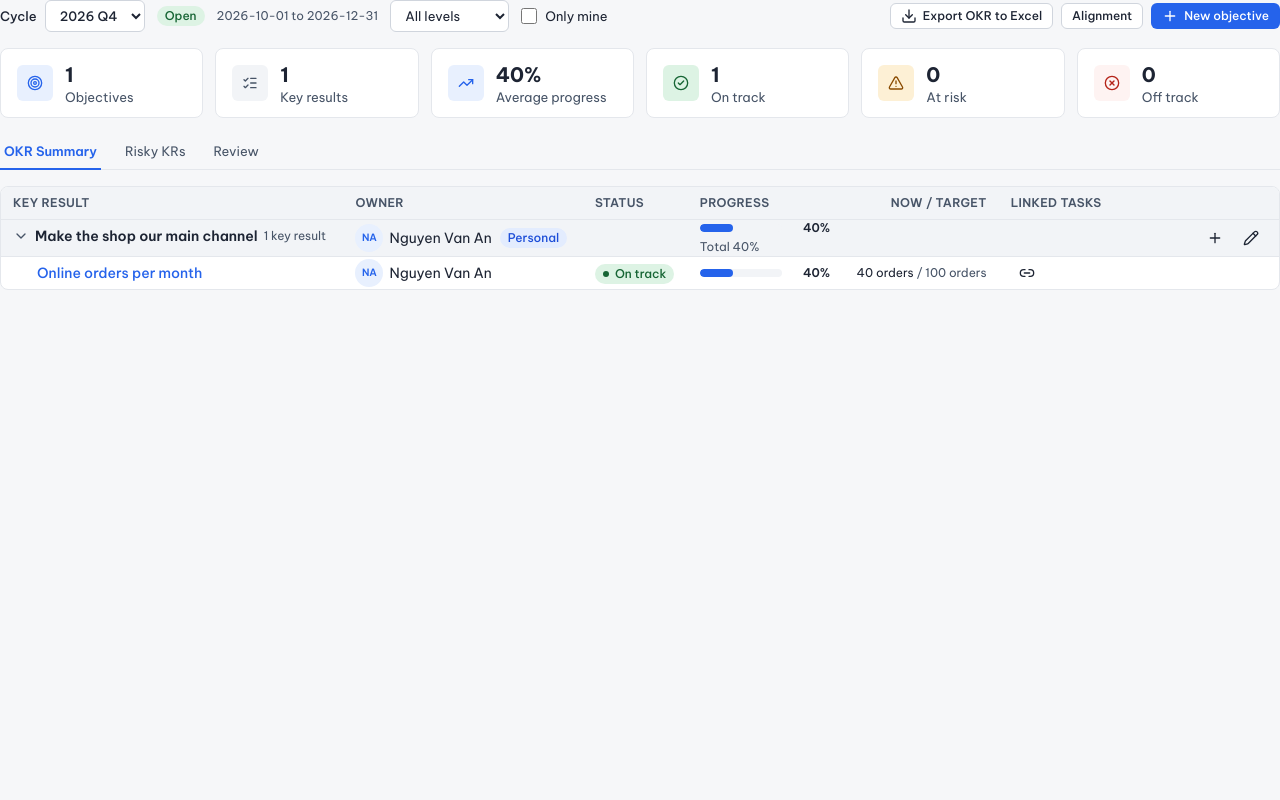
Test case: OkrScreen › shows the alignment tree and the review in their tabs
Expected: the button "Make the shop our main channel 1 key result" is shown, [13,226,326,246]
Click the button "Alignment": click(1102, 16) [1061,3,1143,29]
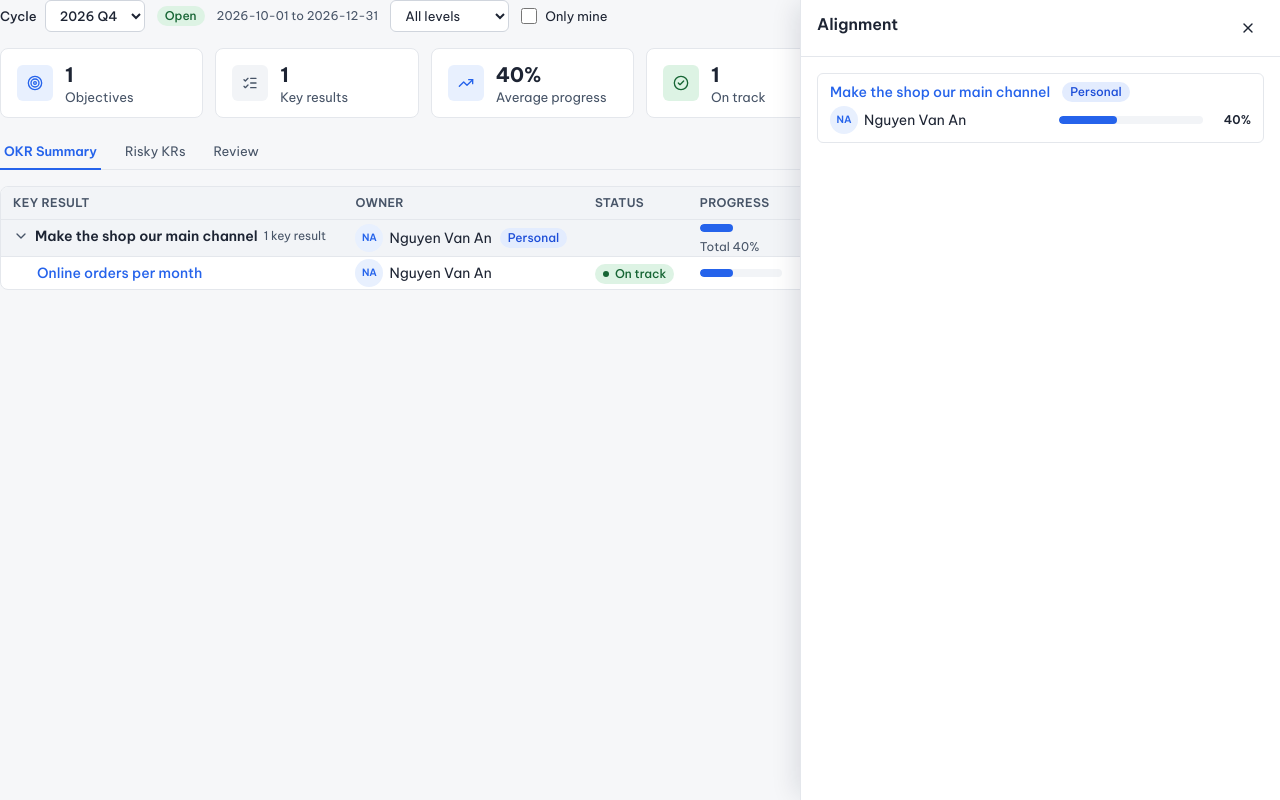
Result: the list named "Alignment" is shown at [817,73,1264,143]
Press Escape
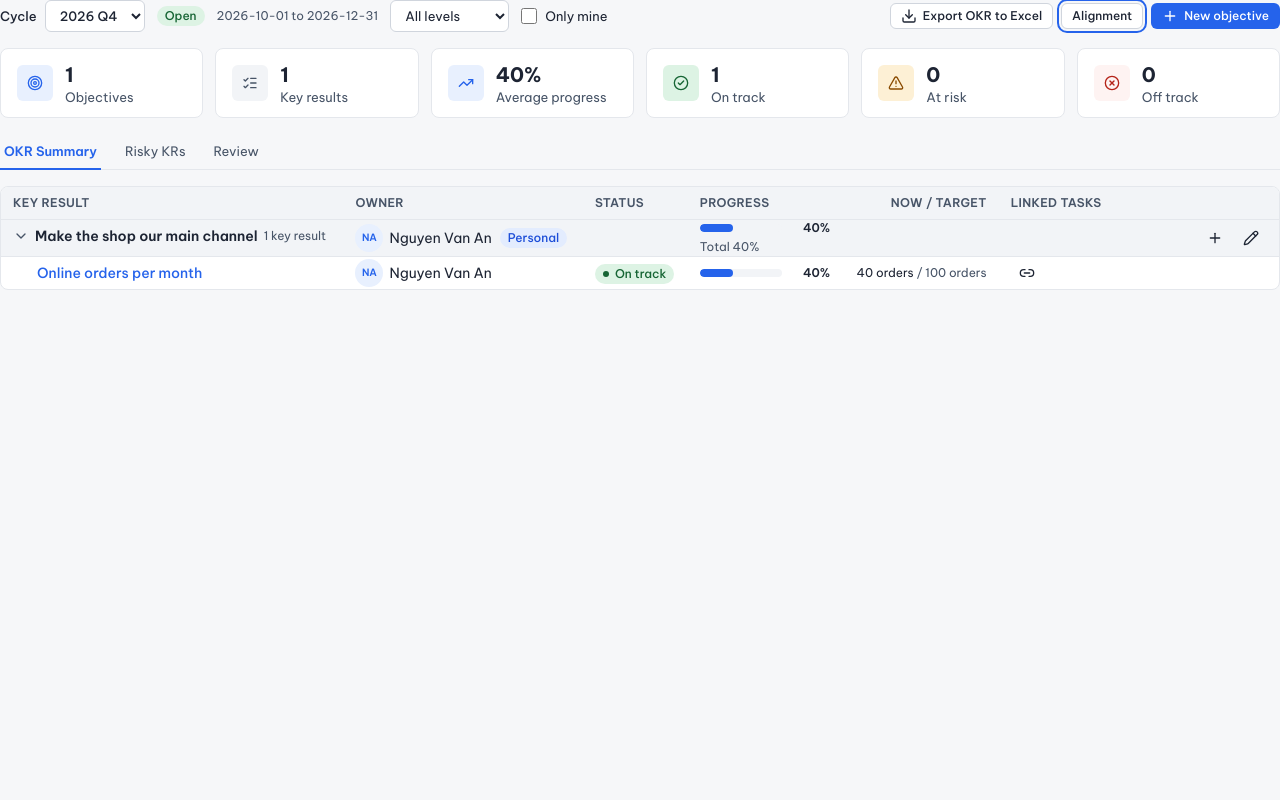
Click the tab "Review": click(236, 153) [210,135,263,170]
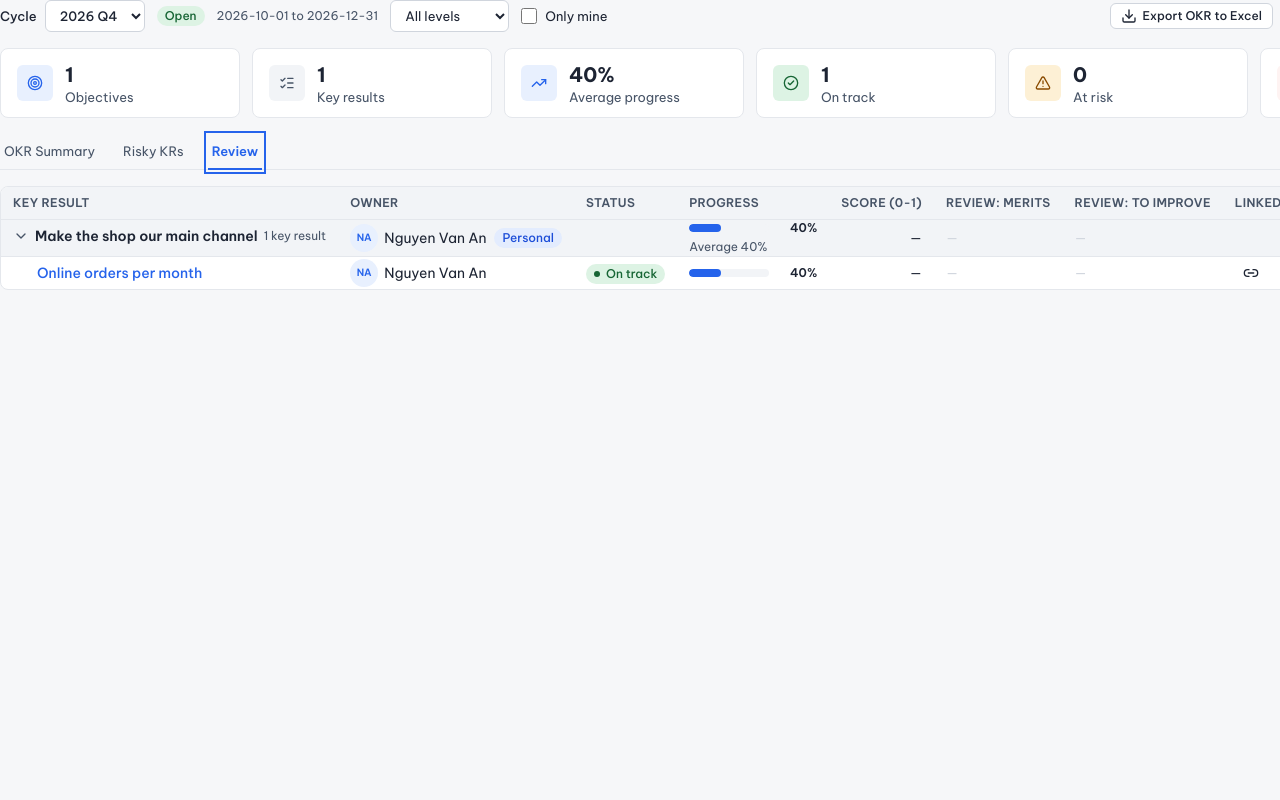
Result: the column heading "Score (0-1)" is shown at [829,187,934,219]
